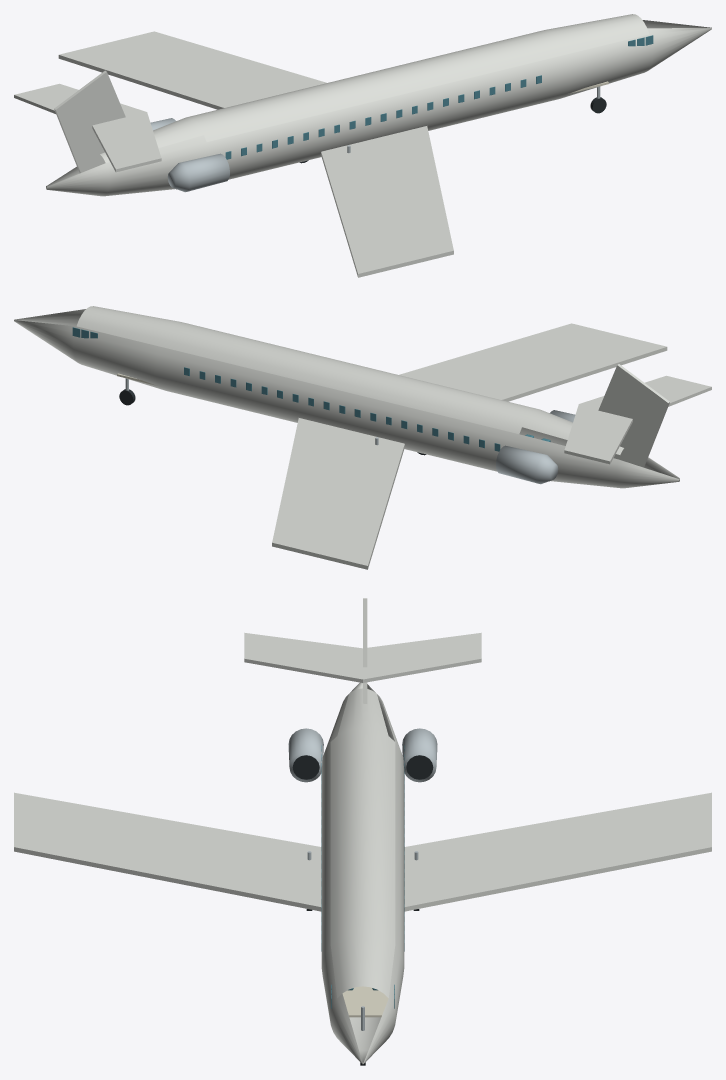
The model's file is airliner_reartwin.glb.
3 renders of one model, top to bottom at view 1: azimuth 30°, elevation 25°; view 2: azimuth 150°, elevation 25°; view 3: azimuth 270°, elevation 25°, orthographic. The views are drawn at different scales.
Visible parts, largest first — view 1: VisibleGeometry, Roof_Cutaway; view 2: VisibleGeometry, Roof_Cutaway; view 3: VisibleGeometry, Roof_Cutaway.
Boxes of the visible parts, x1=… form: VisibleGeometry: x1=14, y1=20, x2=711, y2=277; Roof_Cutaway: x1=100, y1=14, x2=649, y2=162; VisibleGeometry: x1=14, y1=309, x2=711, y2=569; Roof_Cutaway: x1=76, y1=306, x2=623, y2=454; VisibleGeometry: x1=14, y1=598, x2=711, y2=1065; Roof_Cutaway: x1=330, y1=688, x2=395, y2=997.
Bounding box in the file's own units: 36.4 × 8.4 × 28.4.
